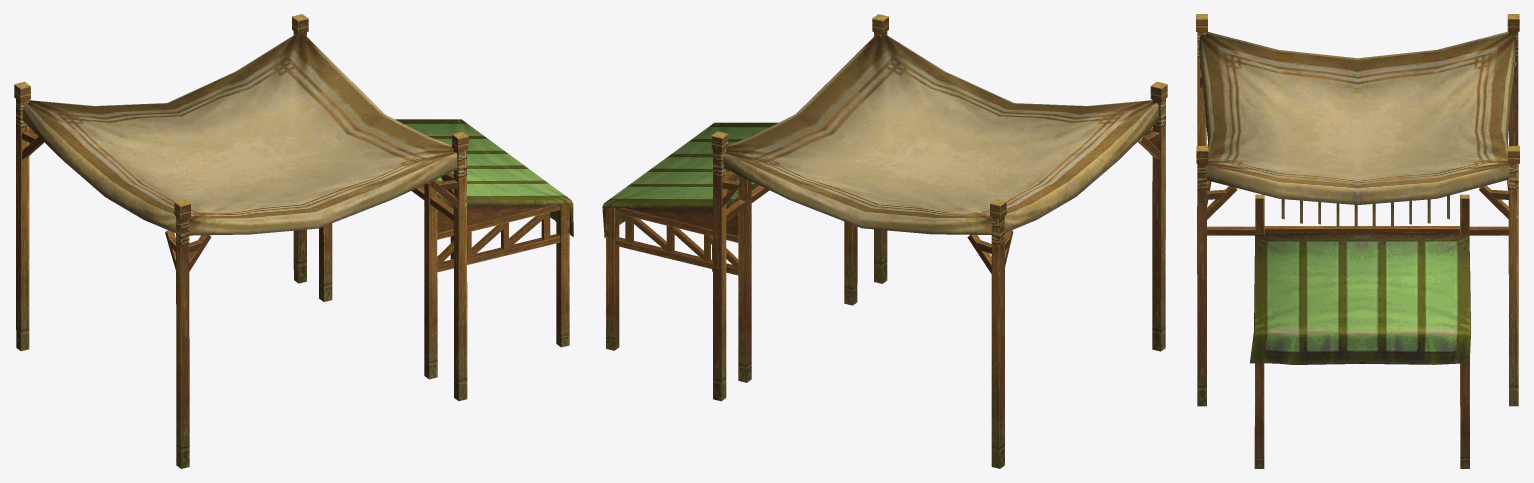
File: xs_Item_baozi_1.FBX
3 views of the same model, side by side, from view 1: azimuth 30°, elevation 25°; view 2: azimuth 150°, elevation 25°; view 3: azimuth 270°, elevation 25° (orthographic). The views are drawn at different scales.
Visible parts, largest first — view 1: xs_Item_baozi_1; view 2: xs_Item_baozi_1; view 3: xs_Item_baozi_1.
Boxes of the visible parts, x1=… form: xs_Item_baozi_1: x1=14, y1=14, x2=573, y2=468; xs_Item_baozi_1: x1=602, y1=14, x2=1167, y2=468; xs_Item_baozi_1: x1=1196, y1=14, x2=1519, y2=468.
Bounding box in the file's own units: 1057 × 628 × 719.
